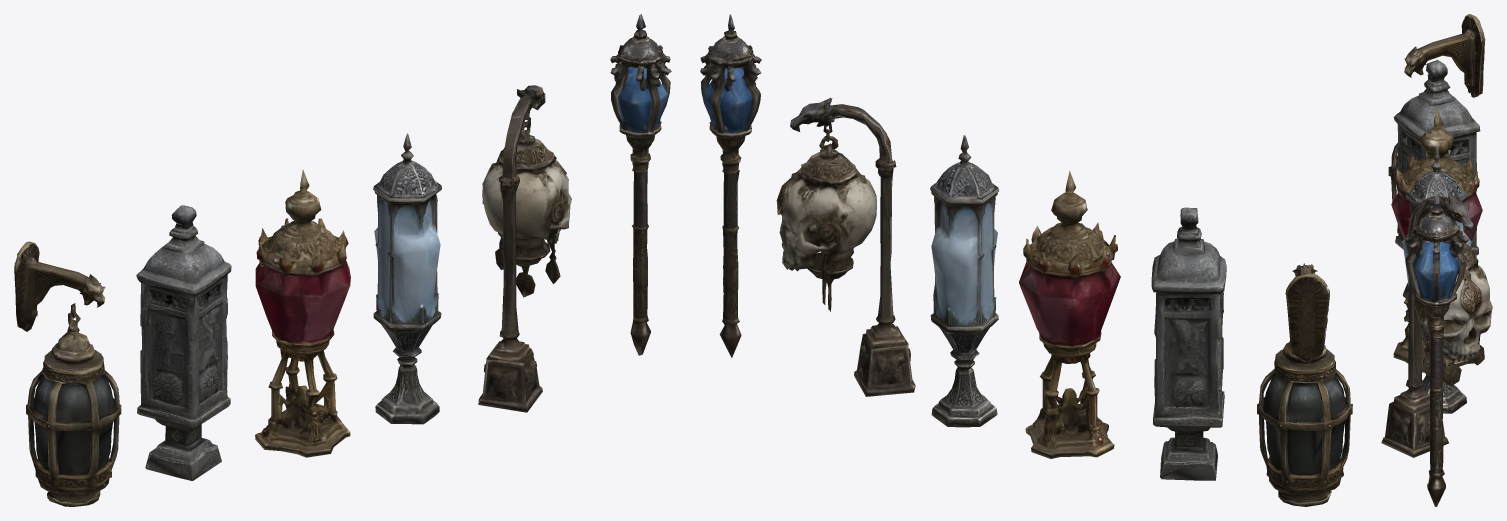
File: lamps_fantasy.glb
3 renders of one model, left to right at view 1: azimuth 30°, elevation 25°; view 2: azimuth 150°, elevation 25°; view 3: azimuth 270°, elevation 25°, orthographic. The views are drawn at different scales.
Parts seen in each view (by area): view 1: lamp_rune_stone, lamp_gem_ruby, lamp_glass_jar, lamp_skull, lamp_ice_crystal, lamp_staff_crystal; view 2: lamp_skull, lamp_gem_ruby, lamp_rune_stone, lamp_glass_jar, lamp_ice_crystal, lamp_staff_crystal; view 3: lamp_skull, lamp_staff_crystal, lamp_rune_stone, lamp_gem_ruby, lamp_glass_jar, lamp_ice_crystal.
Boxes of the visible parts, left/top/right/bottom form: lamp_rune_stone: left=136, top=205, right=231, bottom=480; lamp_gem_ruby: left=255, top=169, right=350, bottom=457; lamp_glass_jar: left=14, top=241, right=121, bottom=506; lamp_skull: left=478, top=85, right=571, bottom=412; lamp_ice_crystal: left=373, top=133, right=441, bottom=424; lamp_staff_crystal: left=610, top=14, right=671, bottom=355; lamp_skull: left=776, top=97, right=915, bottom=396; lamp_gem_ruby: left=1019, top=171, right=1120, bottom=458; lamp_rune_stone: left=1151, top=207, right=1226, bottom=480; lamp_glass_jar: left=1257, top=263, right=1352, bottom=506; lamp_ice_crystal: left=930, top=135, right=999, bottom=427; lamp_staff_crystal: left=700, top=14, right=761, bottom=357; lamp_skull: left=1381, top=192, right=1492, bottom=457; lamp_staff_crystal: left=1405, top=192, right=1468, bottom=506; lamp_rune_stone: left=1393, top=60, right=1480, bottom=297; lamp_gem_ruby: left=1391, top=107, right=1482, bottom=372; lamp_glass_jar: left=1388, top=14, right=1485, bottom=232; lamp_ice_crystal: left=1402, top=145, right=1471, bottom=413.
Size of the model in its own units: 1.13 by 0.5762 by 0.1848.
1 material, 1 textured.
